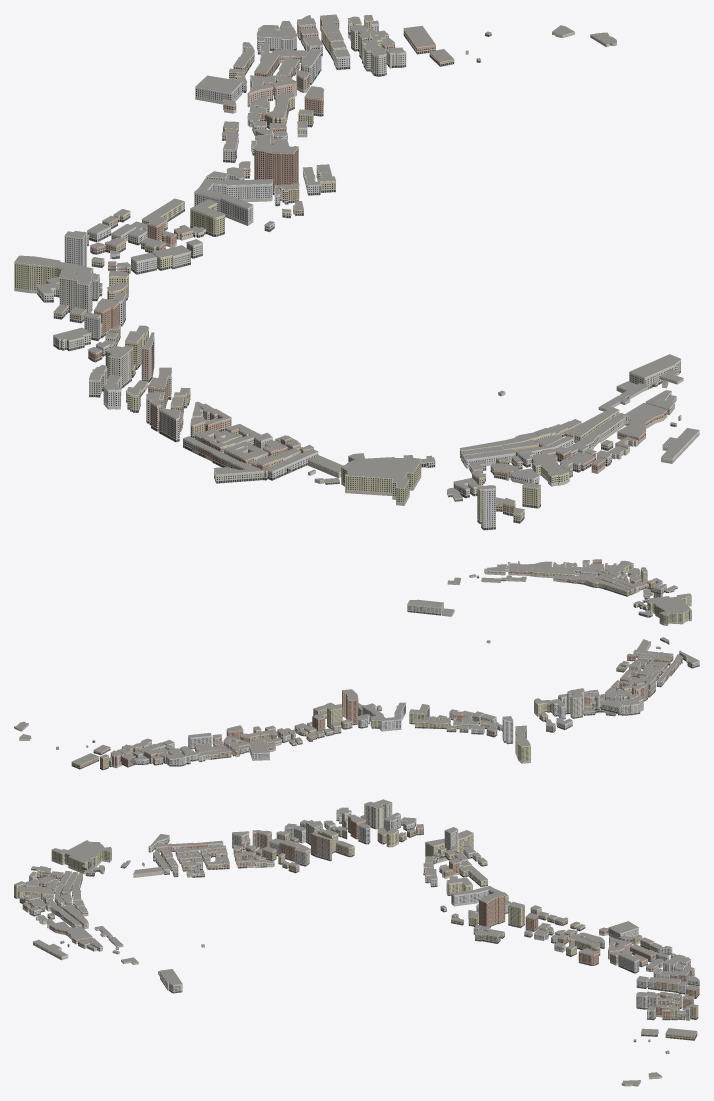
Rendered from far.glb.
3 views of the same model, one above another, from view 1: azimuth 30°, elevation 25°; view 2: azimuth 150°, elevation 25°; view 3: azimuth 270°, elevation 25° (orthographic). The views are drawn at different scales.
Visible parts, largest first — view 1: Roof membrane.002, Dark window glass.002, Render 3.002, White moulded cornice.002, Render 4.002, Pale stone base.002, Render 0.002, Render 5.002, Shopfront glass.002, Render 2.002, Render 1.002; view 2: Roof membrane.002, Dark window glass.002, White moulded cornice.002, Pale stone base.002, Render 4.002, Render 3.002, Render 0.002, Shopfront glass.002, Render 5.002, Render 2.002, Render 1.002; view 3: Roof membrane.002, Dark window glass.002, White moulded cornice.002, Pale stone base.002, Render 4.002, Render 3.002, Render 5.002, Render 0.002, Shopfront glass.002, Render 2.002, Render 1.002.
Part boxes in pixels (bbox=[...]): Roof membrane.002: bbox=[14, 14, 698, 514]; Dark window glass.002: bbox=[15, 20, 680, 526]; Render 3.002: bbox=[37, 23, 699, 527]; White moulded cornice.002: bbox=[14, 15, 699, 527]; Render 4.002: bbox=[14, 22, 666, 520]; Pale stone base.002: bbox=[14, 27, 699, 530]; Render 0.002: bbox=[53, 28, 680, 494]; Render 5.002: bbox=[88, 17, 683, 508]; Shopfront glass.002: bbox=[37, 29, 680, 529]; Render 2.002: bbox=[45, 19, 637, 480]; Render 1.002: bbox=[69, 17, 680, 513]; Roof membrane.002: bbox=[14, 559, 699, 764]; Dark window glass.002: bbox=[72, 562, 699, 767]; White moulded cornice.002: bbox=[15, 560, 699, 768]; Pale stone base.002: bbox=[14, 562, 699, 770]; Render 4.002: bbox=[19, 562, 691, 765]; Render 3.002: bbox=[121, 563, 677, 764]; Render 0.002: bbox=[121, 564, 699, 764]; Shopfront glass.002: bbox=[56, 563, 699, 769]; Render 5.002: bbox=[71, 561, 679, 767]; Render 2.002: bbox=[87, 564, 682, 766]; Render 1.002: bbox=[15, 562, 670, 768]; Roof membrane.002: bbox=[14, 799, 699, 1084]; Dark window glass.002: bbox=[14, 804, 699, 1038]; White moulded cornice.002: bbox=[14, 802, 699, 1085]; Pale stone base.002: bbox=[14, 819, 699, 1086]; Render 4.002: bbox=[14, 821, 687, 1077]; Render 3.002: bbox=[24, 812, 699, 1018]; Render 5.002: bbox=[22, 816, 699, 1040]; Render 0.002: bbox=[24, 803, 690, 1018]; Shopfront glass.002: bbox=[14, 819, 699, 1053]; Render 2.002: bbox=[39, 827, 694, 1040]; Render 1.002: bbox=[36, 816, 698, 1084].
Bounding box in the file's own units: 1261 × 136 × 1511.
